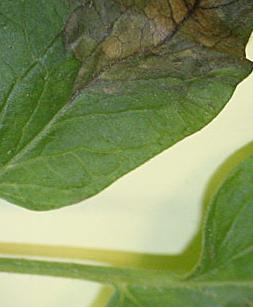Tomato leaf late blight: (0, 0, 253, 251)
